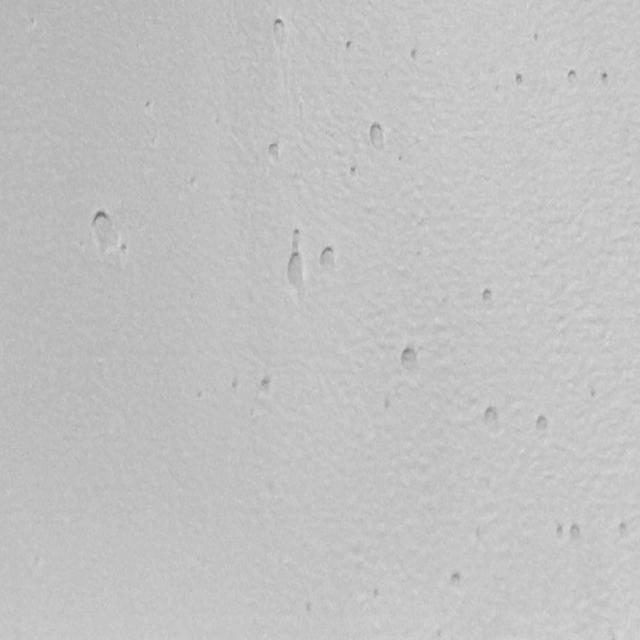pin holes: (82, 202, 121, 271), (283, 248, 308, 288), (398, 344, 424, 376), (367, 120, 391, 154), (317, 244, 341, 274), (482, 402, 505, 430), (268, 16, 290, 44), (532, 412, 553, 440), (256, 373, 277, 398), (264, 140, 284, 165), (478, 284, 498, 308), (565, 65, 583, 89), (288, 225, 306, 249), (512, 70, 531, 92), (615, 518, 634, 540), (568, 522, 586, 545), (551, 521, 570, 542), (406, 43, 424, 64), (448, 570, 466, 590), (598, 71, 613, 91), (119, 241, 132, 260), (303, 600, 316, 618), (342, 40, 357, 55), (230, 376, 242, 394), (141, 97, 154, 113), (532, 30, 546, 44), (347, 165, 359, 180)
